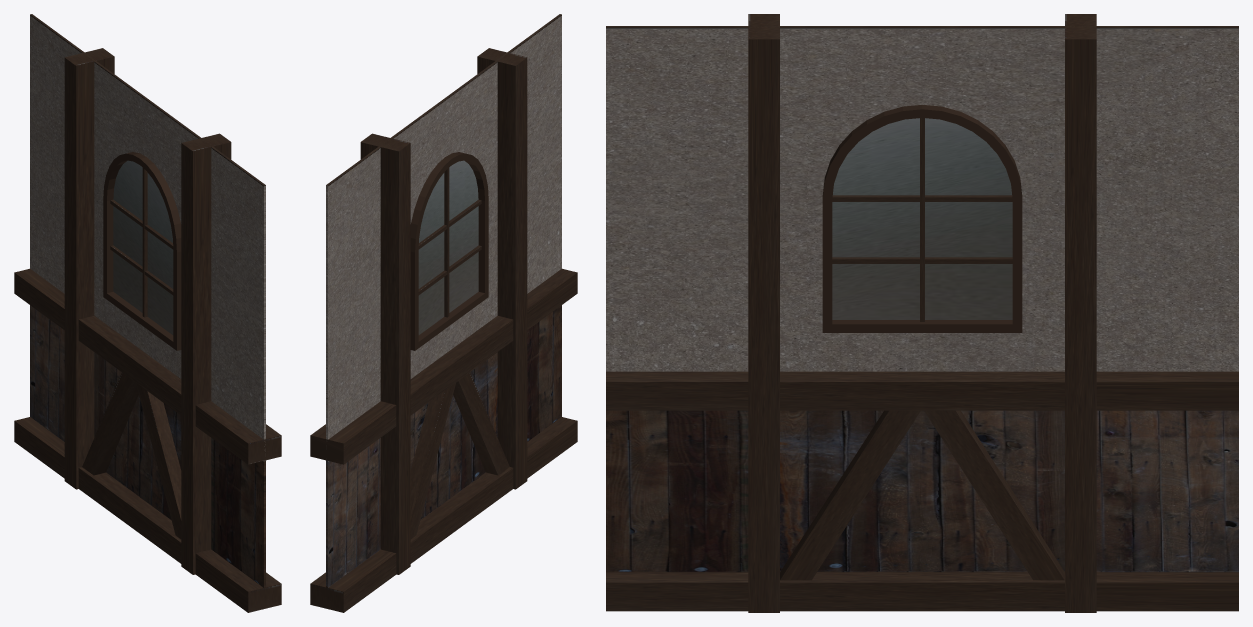
File: OutdoorArchitecture_BasicWall02_Window01_NoEdges_BShortt.fbx
3 views of the same model, side by side, from view 1: azimuth 30°, elevation 25°; view 2: azimuth 150°, elevation 25°; view 3: azimuth 270°, elevation 25° (orthographic). The views are drawn at different scales.
Parts seen in each view (by area): view 1: OutdoorArchitecture_BasicWall02_Window01_NoEdges_BShortt; view 2: OutdoorArchitecture_BasicWall02_Window01_NoEdges_BShortt; view 3: OutdoorArchitecture_BasicWall02_Window01_NoEdges_BShortt.
Boxes of the visible parts, x1,y1,x2,y2 form: OutdoorArchitecture_BasicWall02_Window01_NoEdges_BShortt: (14, 14, 281, 612); OutdoorArchitecture_BasicWall02_Window01_NoEdges_BShortt: (310, 14, 577, 612); OutdoorArchitecture_BasicWall02_Window01_NoEdges_BShortt: (606, 14, 1238, 612).
Bounding box in the file's own units: 28.5 × 300 × 300.
